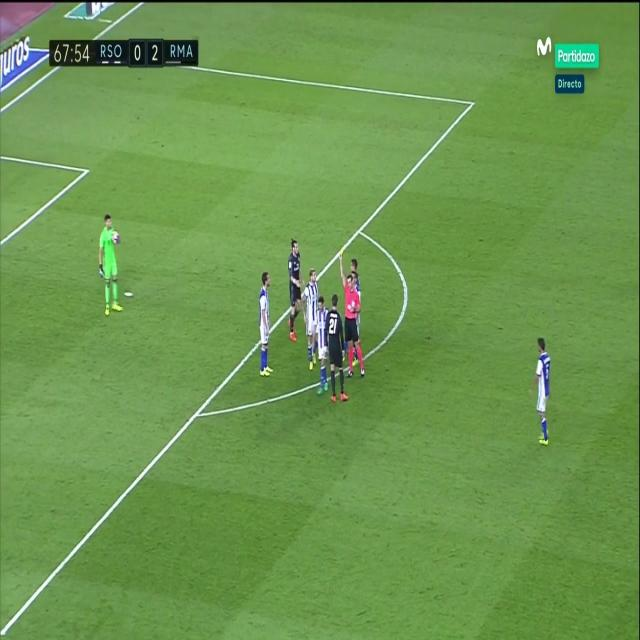Ball: (111, 227, 121, 247)
Goalkeeper: (98, 210, 124, 319)
Player: (324, 294, 352, 404), (534, 334, 554, 449), (256, 269, 275, 379), (287, 238, 305, 343), (303, 266, 319, 370), (313, 297, 329, 397)
Referee: (339, 249, 369, 385)
